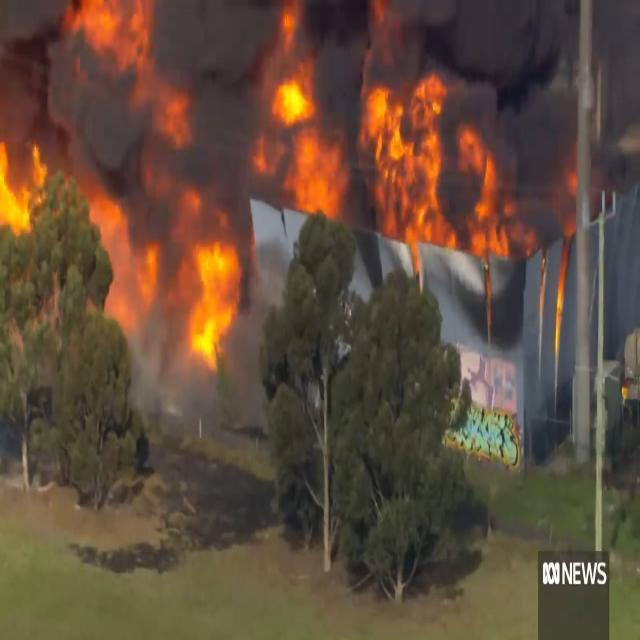fire: (362, 70, 504, 260), (72, 0, 188, 139), (84, 184, 162, 339), (166, 224, 251, 360), (272, 67, 349, 216), (0, 143, 50, 238), (278, 4, 306, 48)
